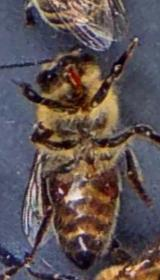varroa_mite: (42, 170, 72, 204), (101, 176, 119, 200)
